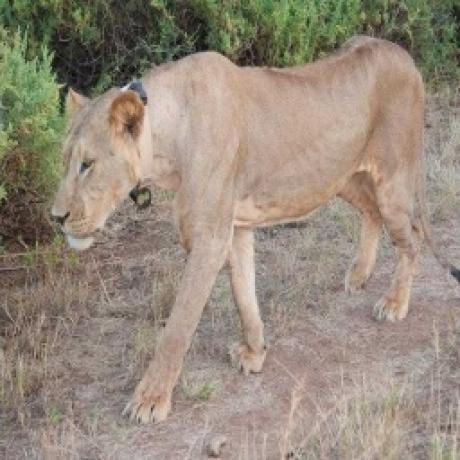Lion: (48, 32, 460, 423)
